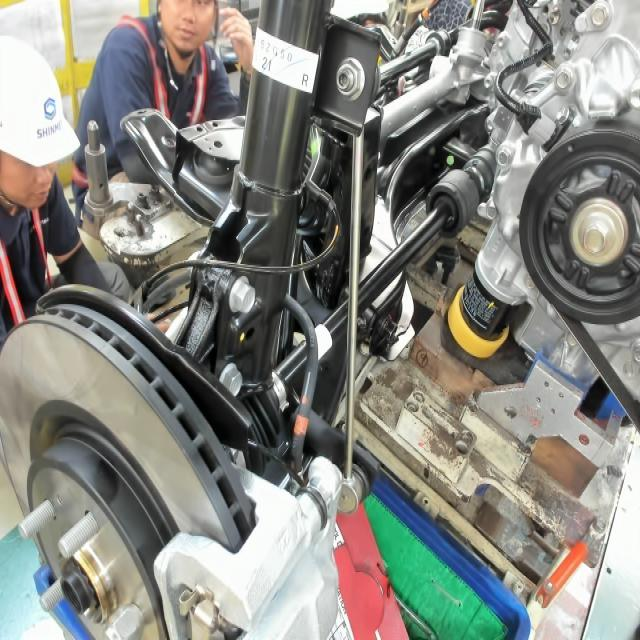Absorber RH-21: (250, 53, 278, 81)
Disc-HT: (8, 403, 171, 635)
Drive Shaft-PT: (307, 323, 333, 364)
